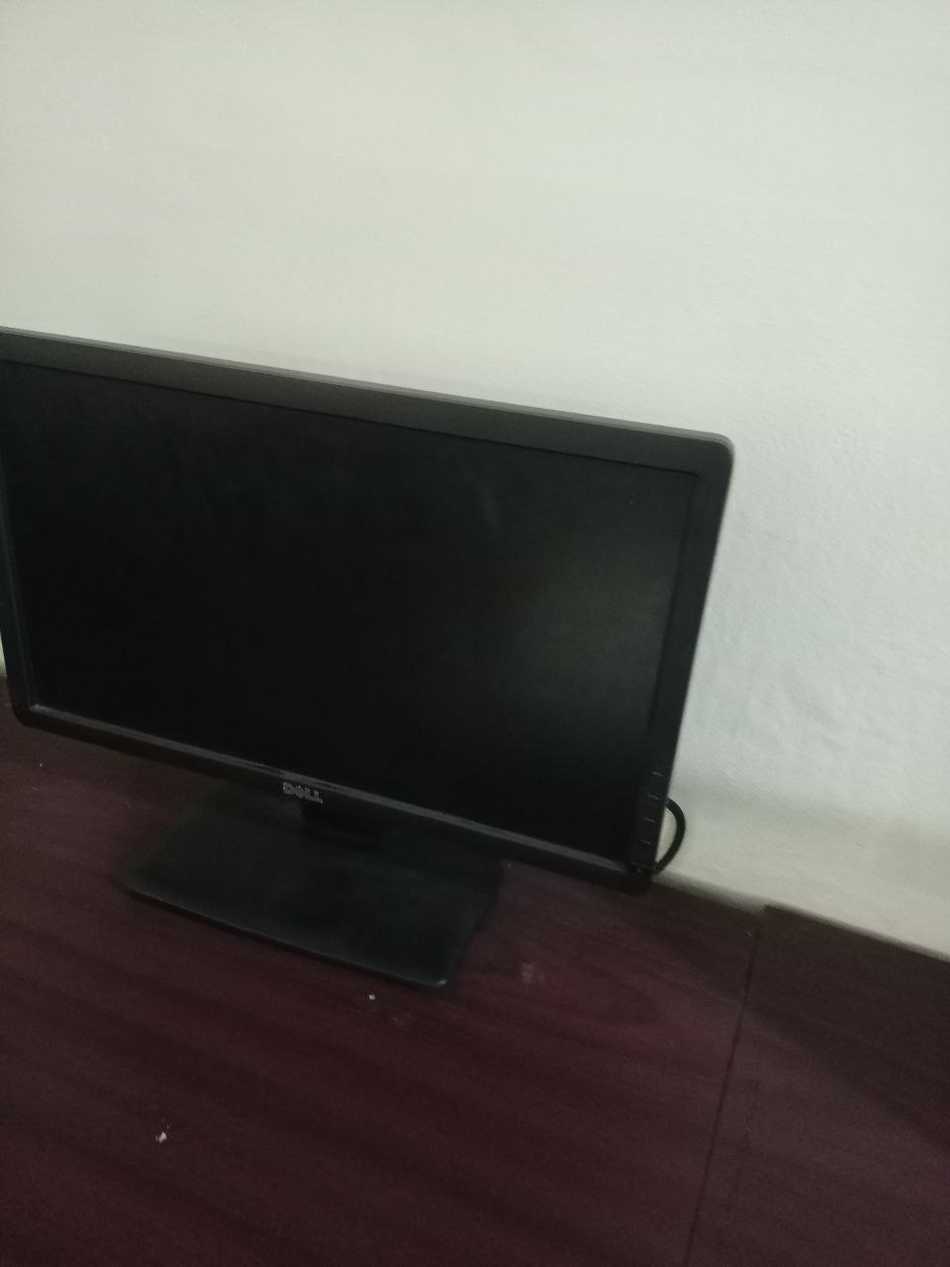computer monitor: (0, 332, 729, 981)
